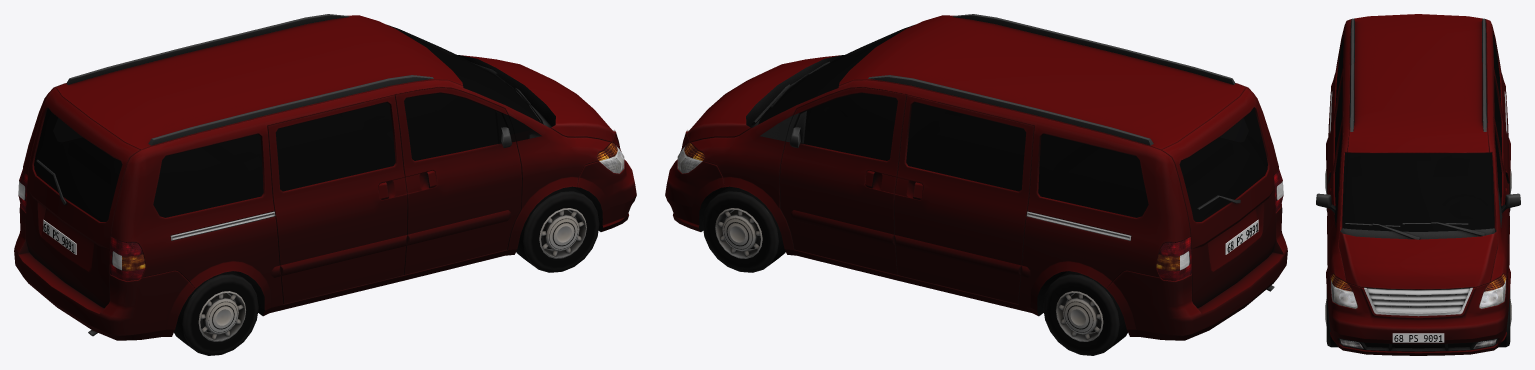
The model's file is CarPlated5677.dae.
3 renders of one model, left to right at view 1: azimuth 30°, elevation 25°; view 2: azimuth 150°, elevation 25°; view 3: azimuth 270°, elevation 25°, orthographic. The views are drawn at different scales.
Visible parts, largest first — view 1: CarPlated5677; view 2: CarPlated5677; view 3: CarPlated5677.
Boxes of the visible parts, bbox=[...] form: CarPlated5677: bbox=[14, 14, 636, 355]; CarPlated5677: bbox=[665, 14, 1287, 355]; CarPlated5677: bbox=[1316, 14, 1520, 355].
Bounding box in the file's own units: 4.64 × 1.87 × 1.76.
